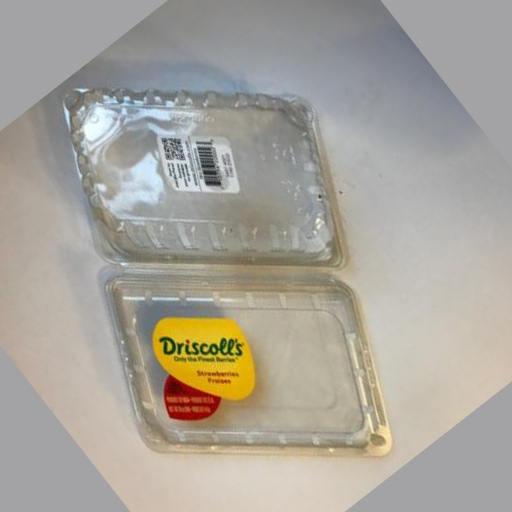Plastic_4: (61, 81, 392, 456)
